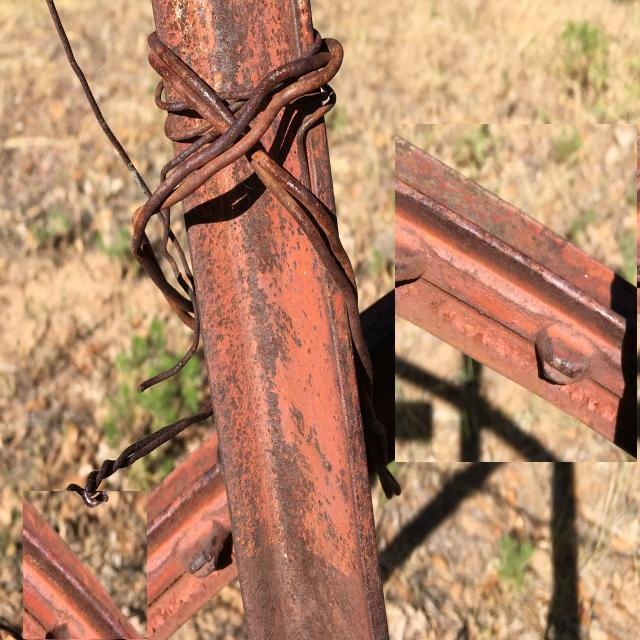Uniform Corrosion: (67, 0, 636, 639), (23, 507, 138, 639), (47, 0, 134, 172)
